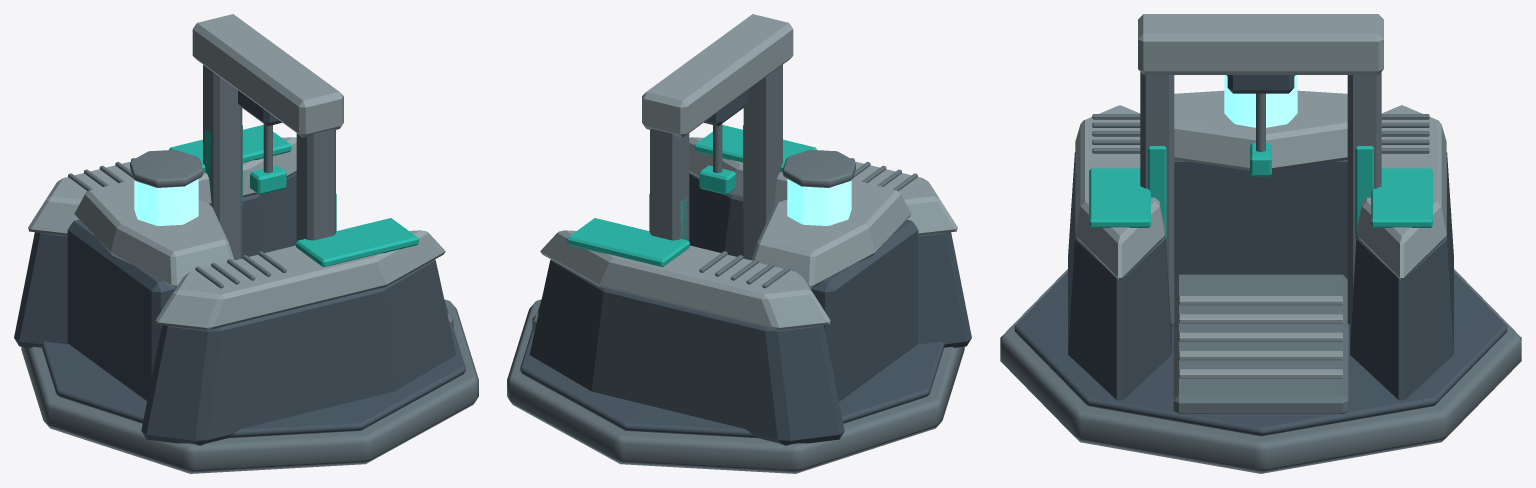
The model's file is SM_Crucible.fbx.
3 renders of one model, left to right at view 1: azimuth 30°, elevation 25°; view 2: azimuth 150°, elevation 25°; view 3: azimuth 270°, elevation 25°, orthographic. The views are drawn at different scales.
Visible parts, largest first — view 1: SM_Crucible; view 2: SM_Crucible; view 3: SM_Crucible.
Boxes of the visible parts, x1,y1,x2,y2 form: SM_Crucible: (14, 14, 478, 473); SM_Crucible: (507, 14, 971, 473); SM_Crucible: (1000, 14, 1521, 473).
Bounding box in the file's own units: 208 × 208 × 155.
